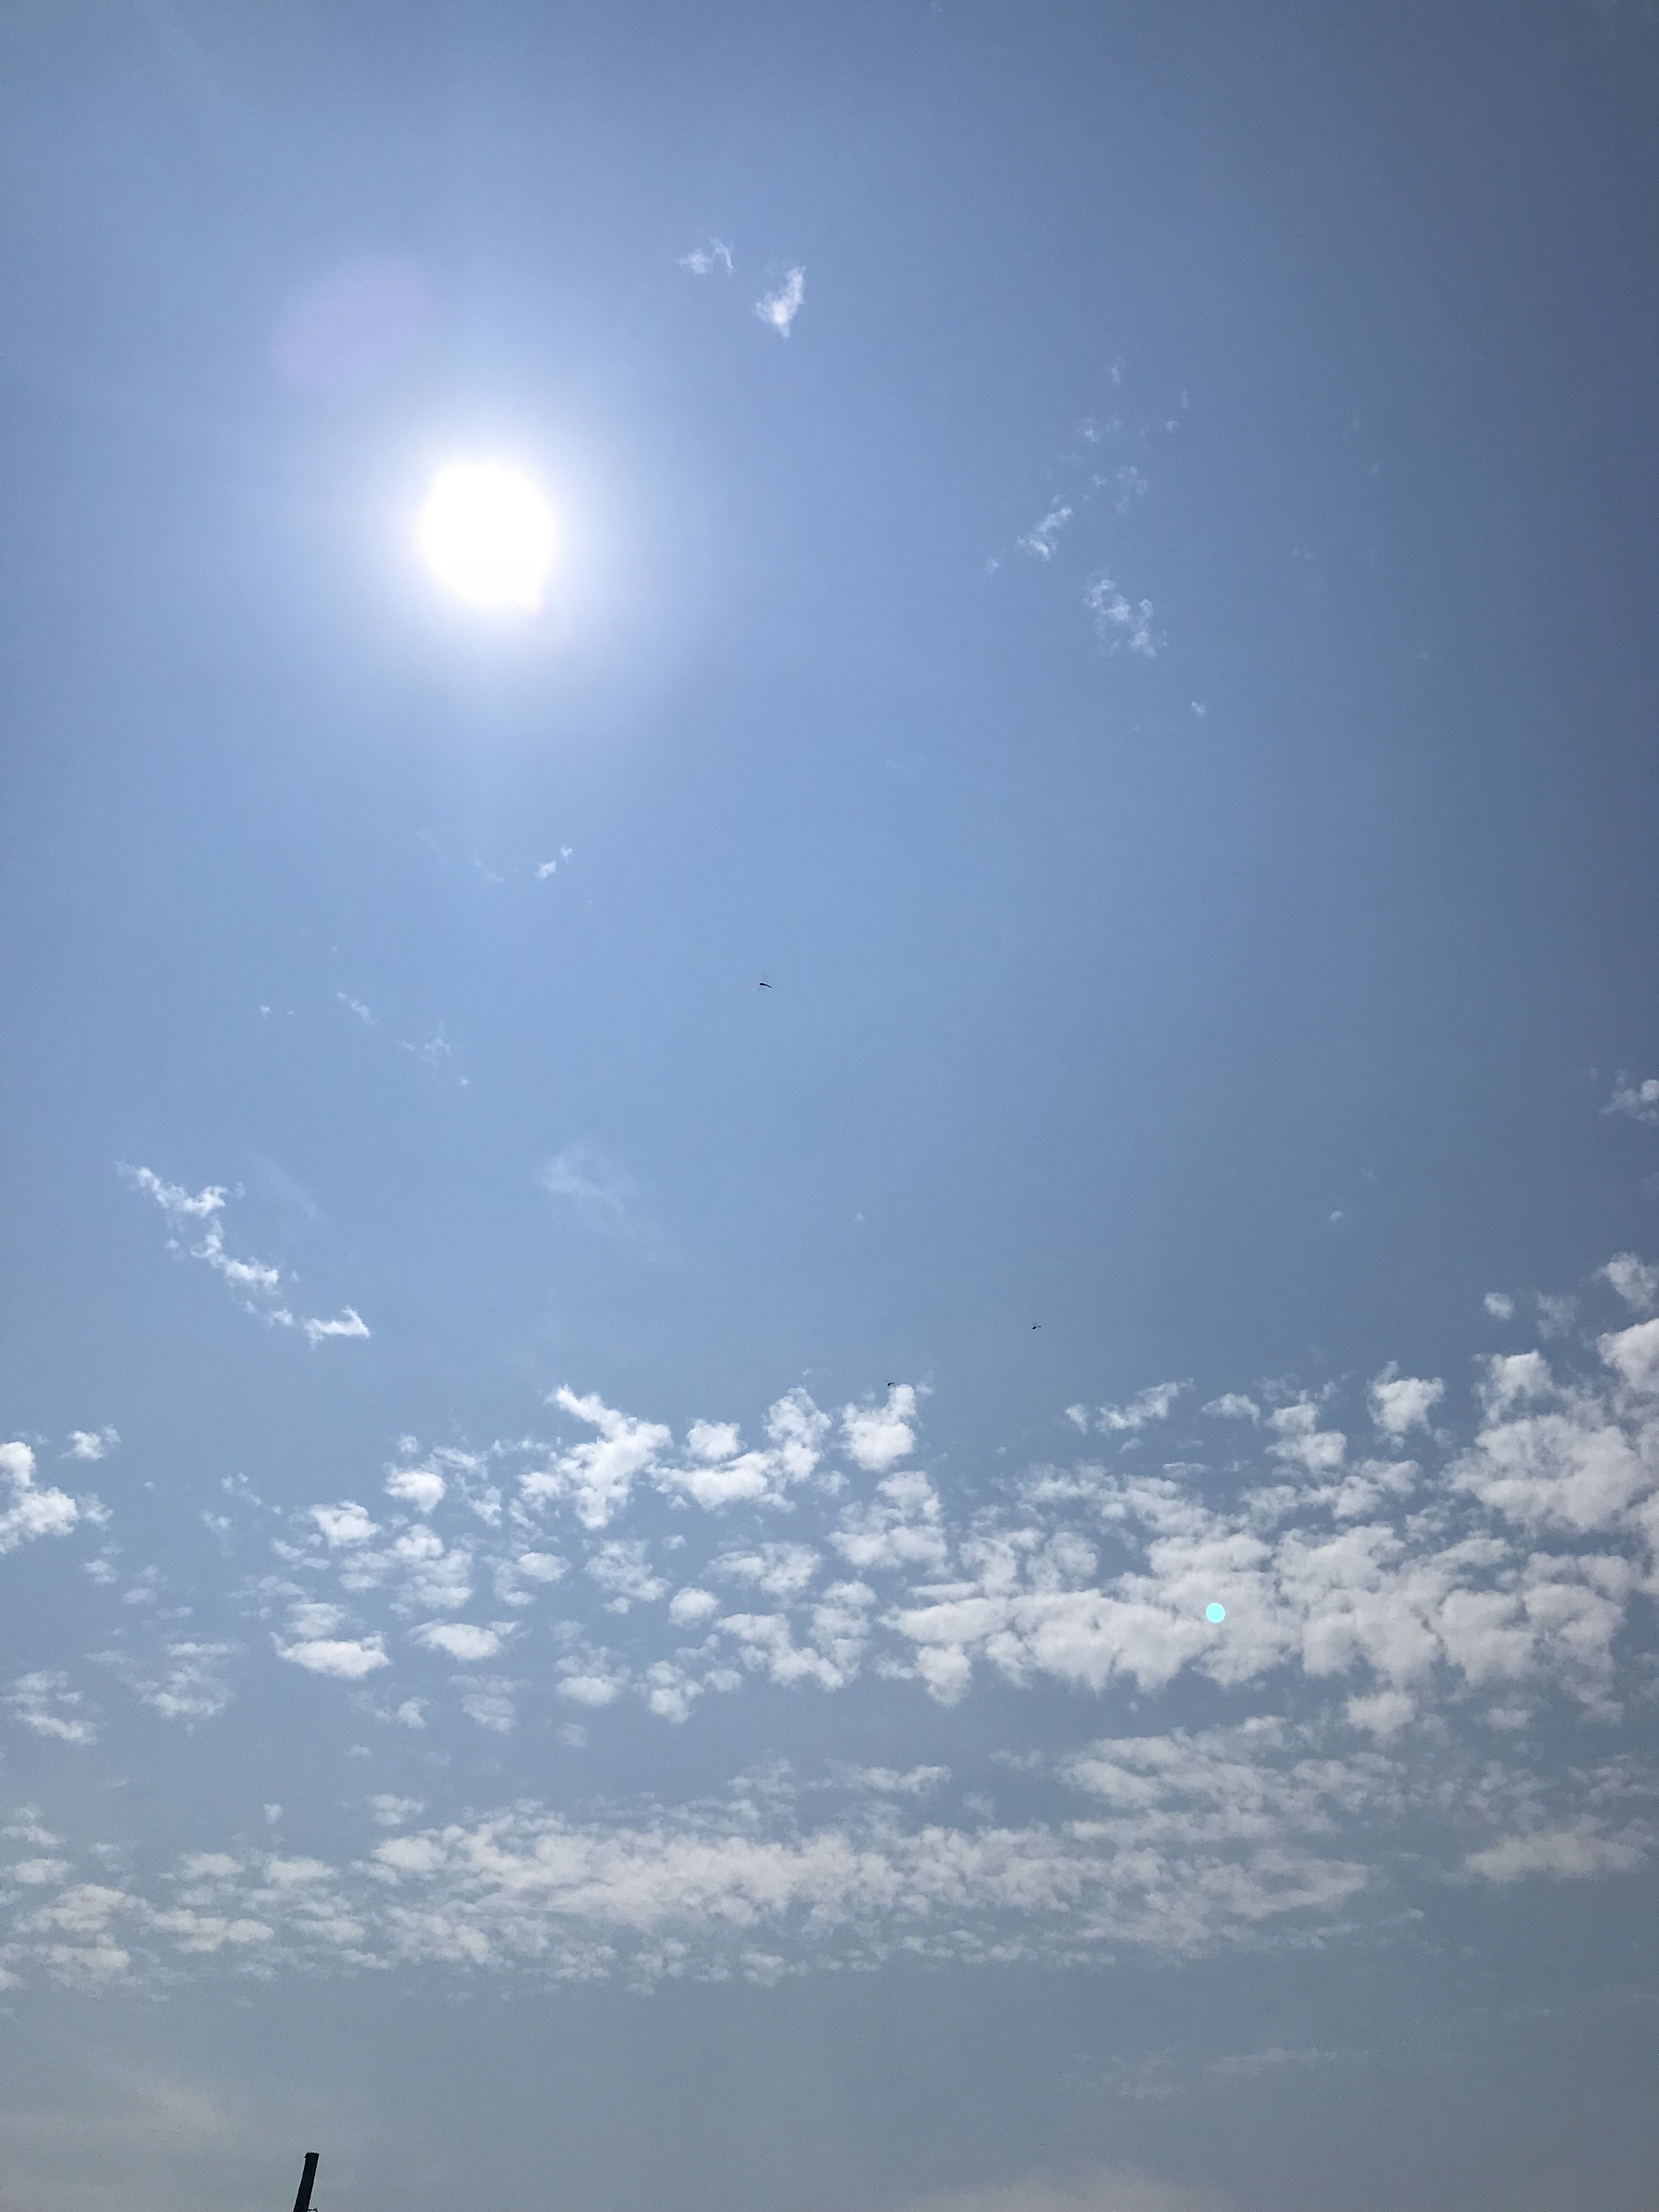flare: (1204, 1601, 1227, 1625)
